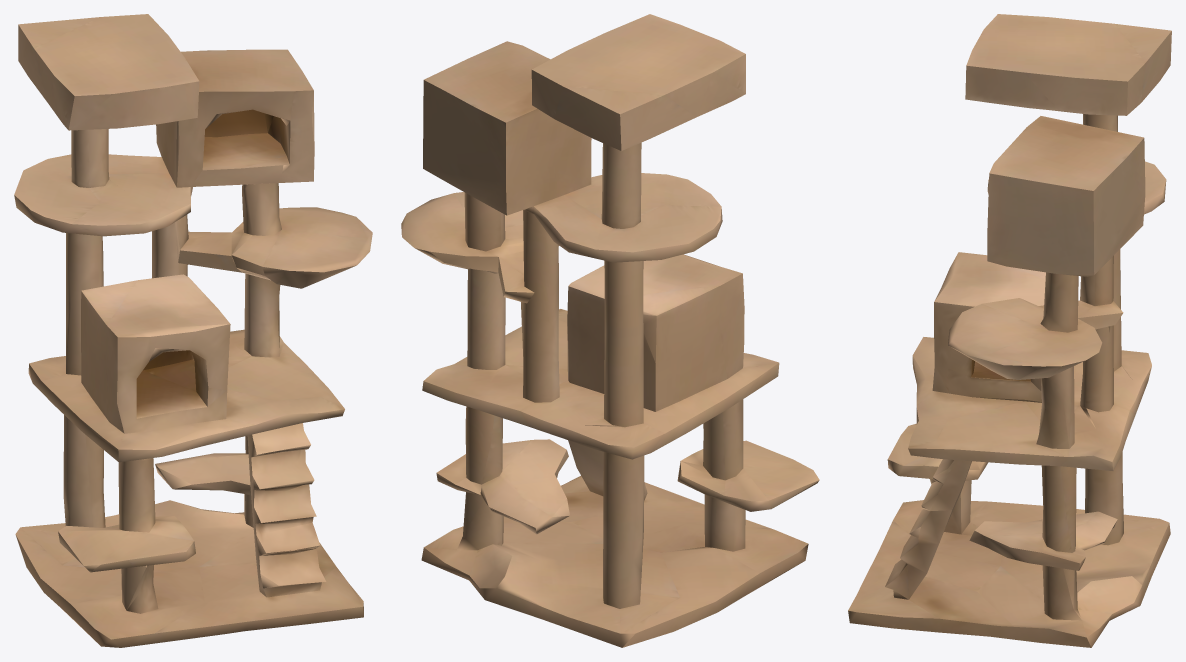
File: catTreeR.glb
The picture shows the model from 3 angles, left to right: view 1: azimuth 30°, elevation 25°; view 2: azimuth 150°, elevation 25°; view 3: azimuth 270°, elevation 25°; orthographic projection. The views are drawn at different scales.
Parts seen in each view (by area): view 1: model; view 2: model; view 3: model.
Boxes of the visible parts, x1,y1,x2,y2 form: model: (14, 14, 372, 647); model: (401, 14, 819, 647); model: (848, 14, 1171, 647).
Size of the model in its own units: 1.28 by 1.89 by 1.09.
Materials: 1 (1 with a texture image).
